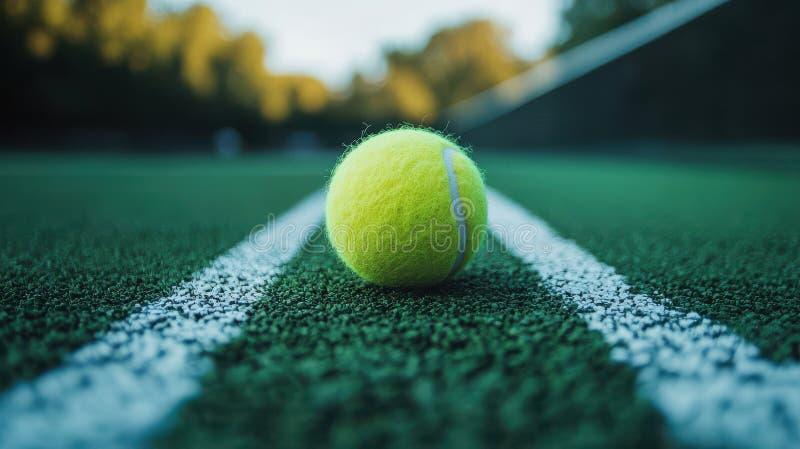ball_tennis: (324, 125, 489, 292)
